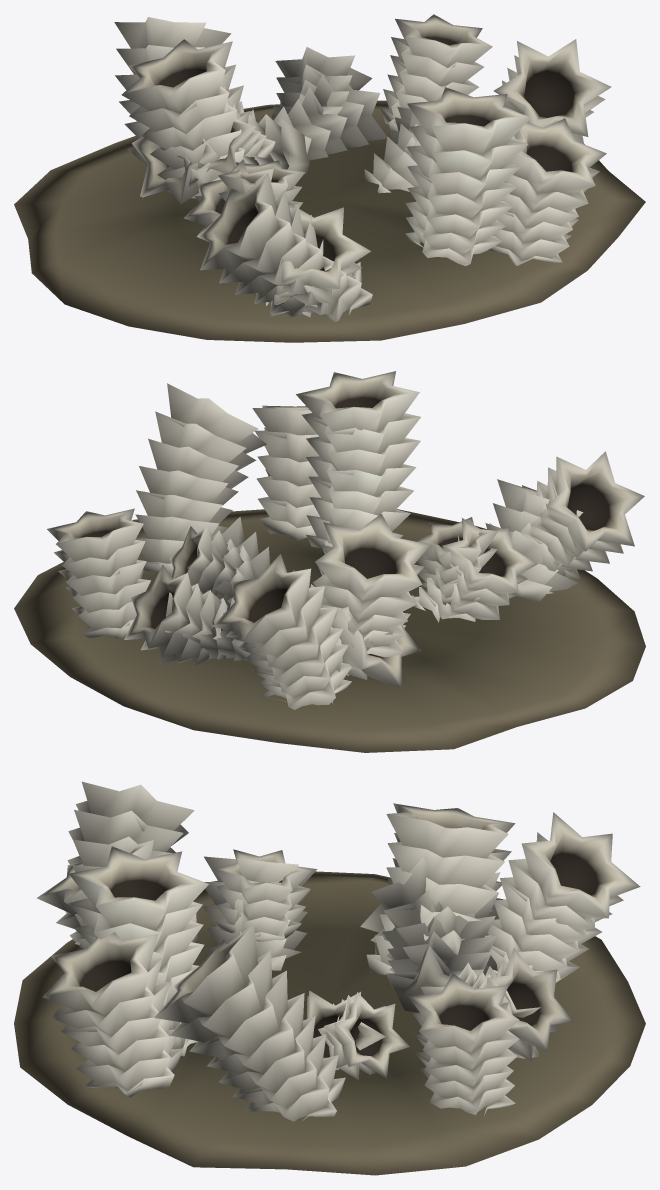
File: CloudinaCarinata.fbx
3 renders of one model, top to bottom at view 1: azimuth 30°, elevation 25°; view 2: azimuth 150°, elevation 25°; view 3: azimuth 270°, elevation 25°, orthographic. The views are drawn at different scales.
Visible parts, largest first — view 1: CloudinaCarinata; view 2: CloudinaCarinata; view 3: CloudinaCarinata.
Part boxes in pixels (<box>): CloudinaCarinata: <box>14,14,645,342</box>; CloudinaCarinata: <box>14,371,645,752</box>; CloudinaCarinata: <box>14,781,645,1175</box>.
Size of the model in its own units: 1.01 by 0.288 by 0.88.
